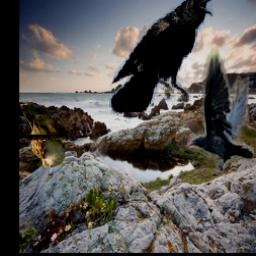Crow: (110, 0, 215, 112), (187, 50, 254, 173)
Cuckoo: (20, 104, 65, 168)
